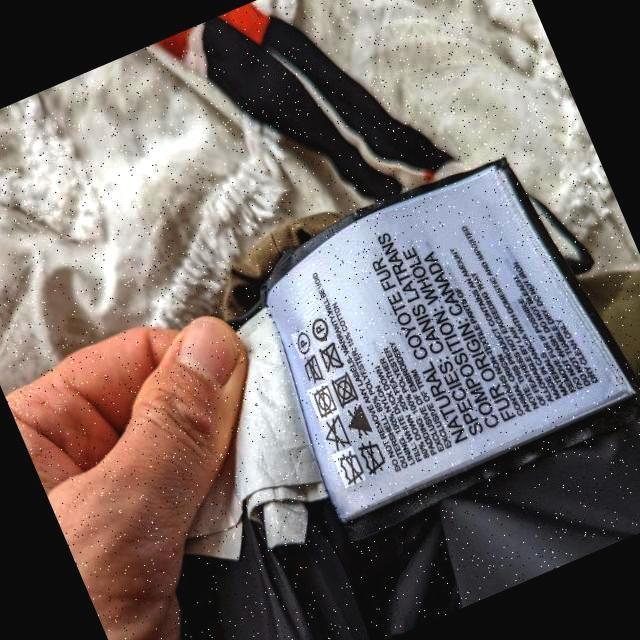DN_bleach: (348, 403, 373, 440), (326, 416, 349, 449)
DN_iron: (320, 343, 344, 374), (304, 354, 324, 384)
DN_tumble_dry: (332, 372, 360, 407), (311, 384, 337, 419)
DN_wash: (359, 443, 387, 477), (337, 452, 363, 486)
dry_clean_any_solvent_except_trichloroethylene: (294, 329, 312, 357), (311, 318, 330, 344)
